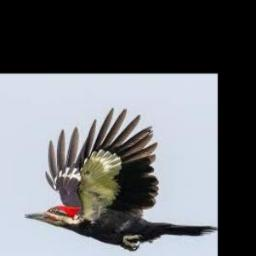Woodpecker: (23, 107, 217, 252)
